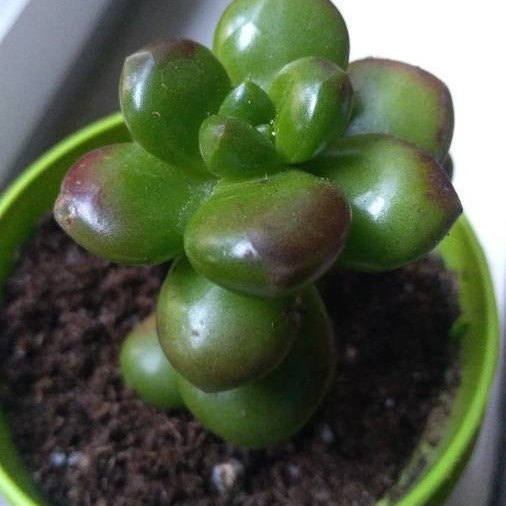obstacle: (15, 13, 476, 471)
